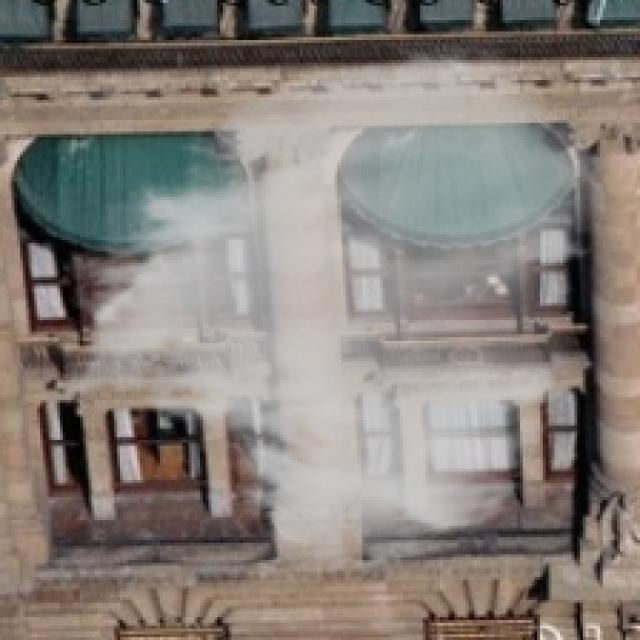smoke: (51, 40, 612, 571)
